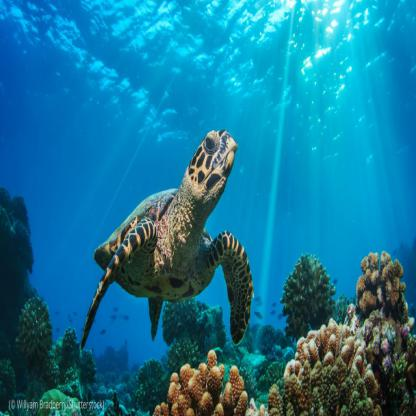turtle: (181, 119, 242, 218)
